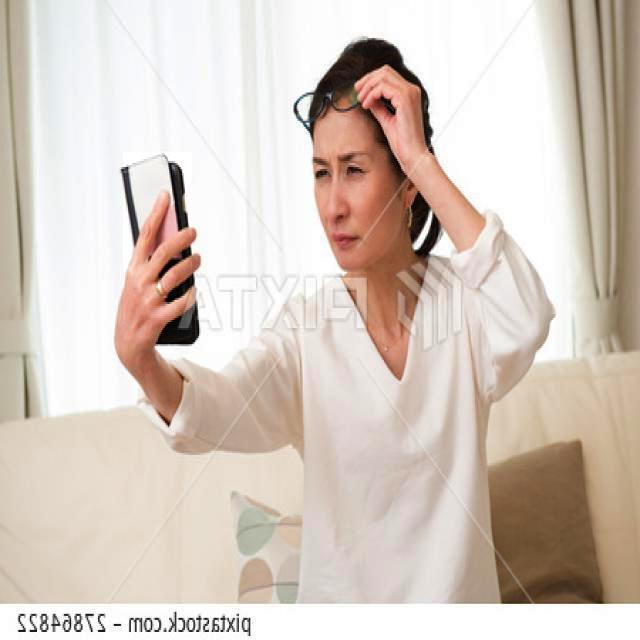mobile: (123, 152, 192, 341)
